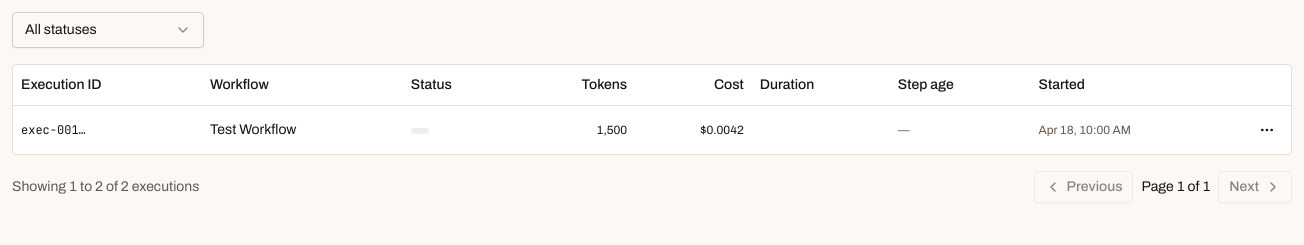
Test: ExecutionsTable › without engine controls (an org viewer, §111 t-812) › offers View trace and neither View lease nor Force fail
The image size is (1304, 245).
Click the button named "row actions" at (1267, 130), box x1=1251 y1=114 x2=1283 y2=146
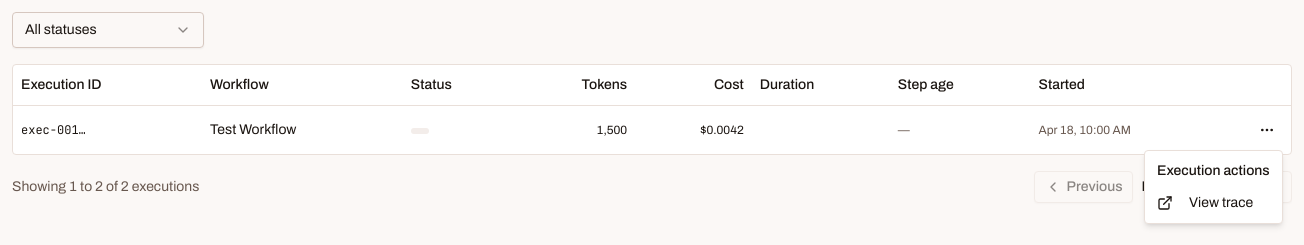
Result: the menu item "View trace" is shown at x1=1157 y1=195 x2=1253 y2=211
